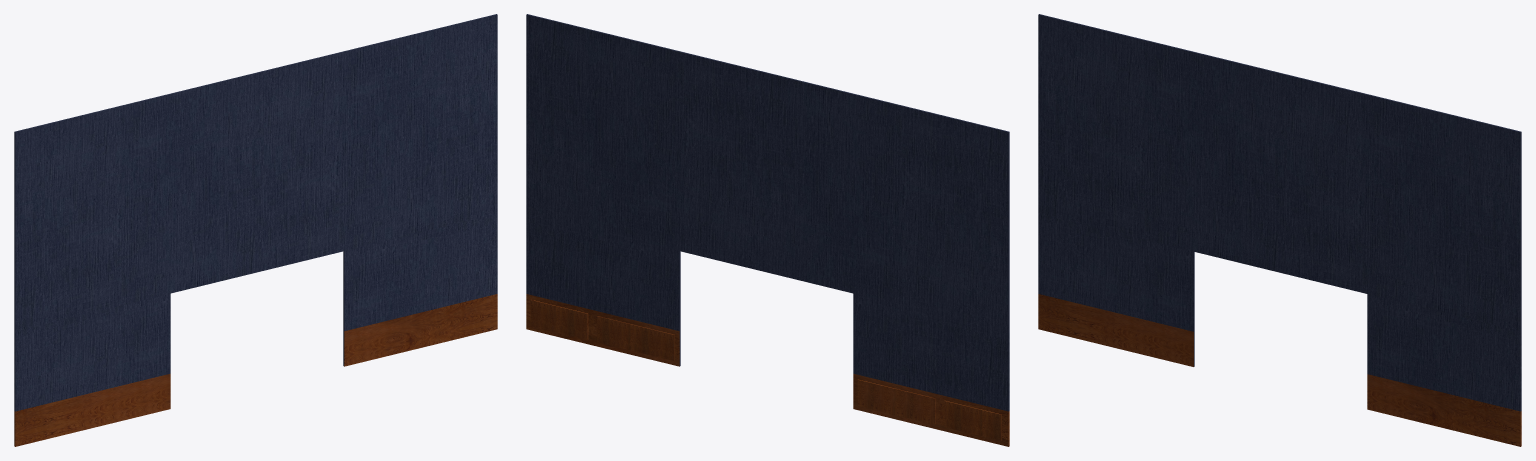
Rendered from EnterWall.fbx.
3 views of the same model, side by side, from view 1: azimuth 30°, elevation 25°; view 2: azimuth 150°, elevation 25°; view 3: azimuth 330°, elevation 25° (orthographic).
Parts seen in each view (by area): view 1: Wall.008; view 2: Wall.008; view 3: Wall.008.
Boxes of the visible parts, x1,y1,x2,y2 form: Wall.008: [14, 14, 497, 446]; Wall.008: [526, 14, 1009, 446]; Wall.008: [1038, 14, 1521, 446].
Bounding box in the file's own units: 1809 × 1128 × 8.33.
